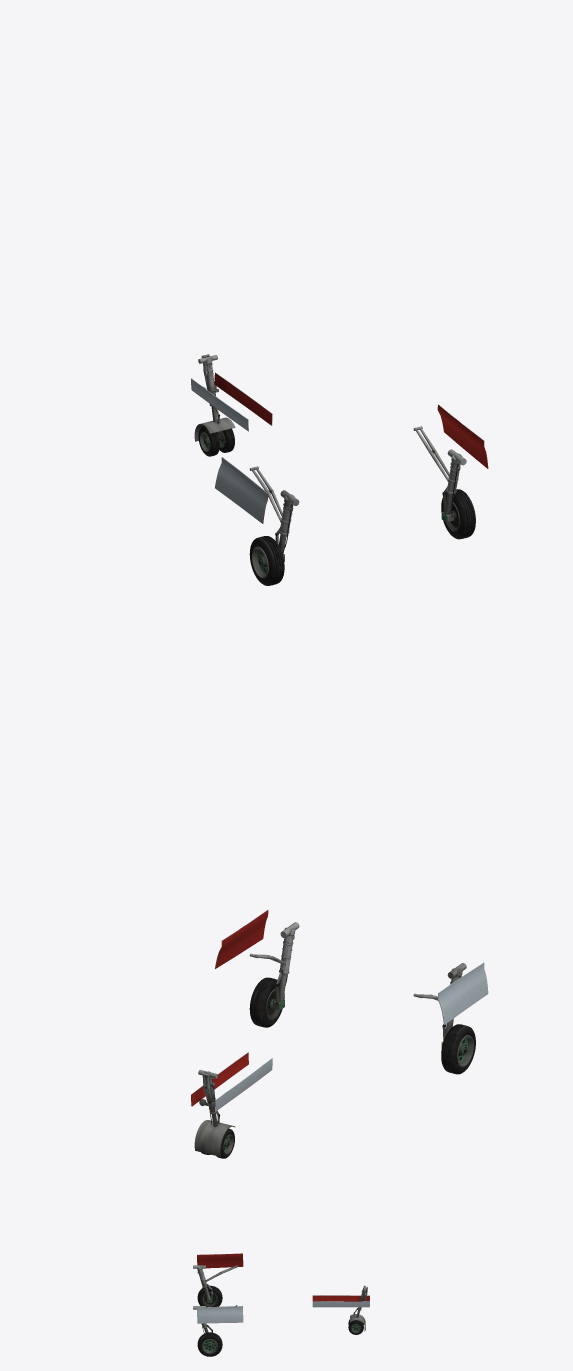
Rendered from e_su33_gear.glb.
3 views of the same model, one above another, from view 1: azimuth 30°, elevation 25°; view 2: azimuth 150°, elevation 25°; view 3: azimuth 270°, elevation 25° (orthographic). The views are drawn at different scales.
Parts seen in each view (by area): view 1: body|S33_paint; view 2: body|S33_paint; view 3: body|S33_paint.
Part boxes in pixels (x1,y1,x2,y2): body|S33_paint: (191,354,488,585); body|S33_paint: (191,910,488,1158); body|S33_paint: (193,1253,369,1356).
Bounding box in the file's own units: 5.33 × 6.45 × 21.9.
Materials: 2 (1 with a texture image).
